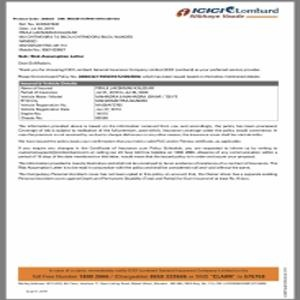image: (175, 1, 281, 20)
table: (18, 80, 279, 120)
text: (13, 16, 265, 80), (16, 124, 279, 181)
